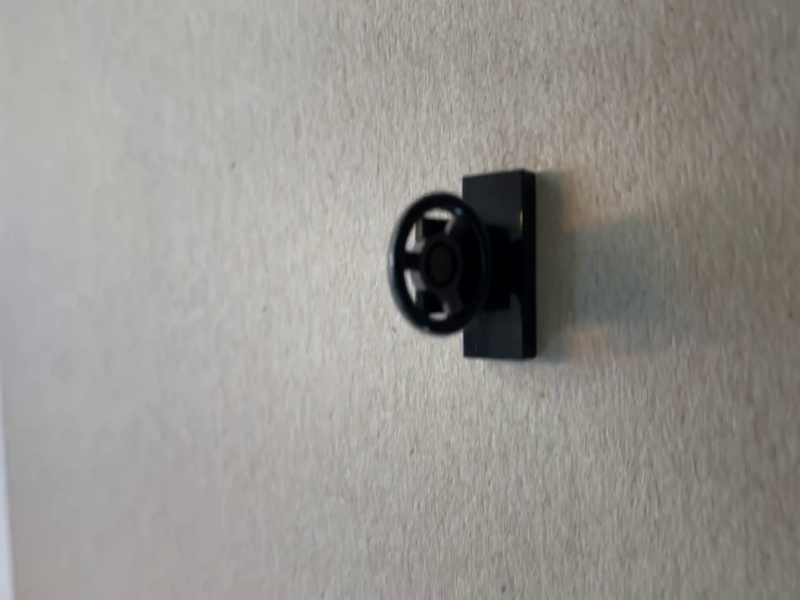steering wheel: (384, 169, 540, 363)
